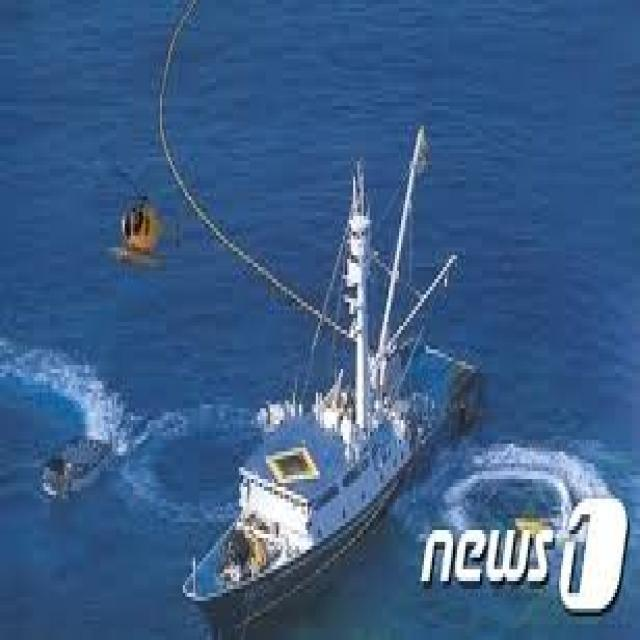Ship: (170, 99, 494, 629)
